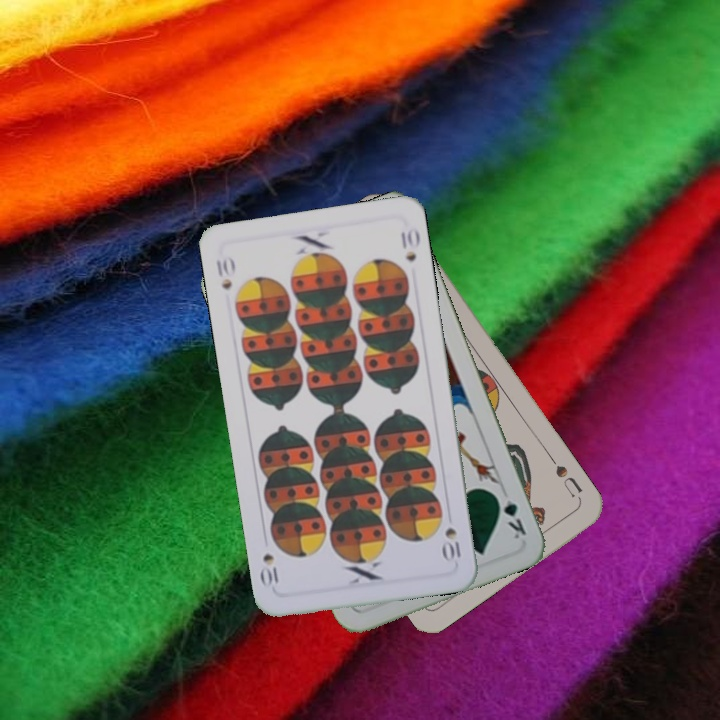GK: (491, 489, 529, 542)
S10: (212, 253, 237, 293), (440, 523, 463, 565)
SU: (545, 451, 585, 503)
